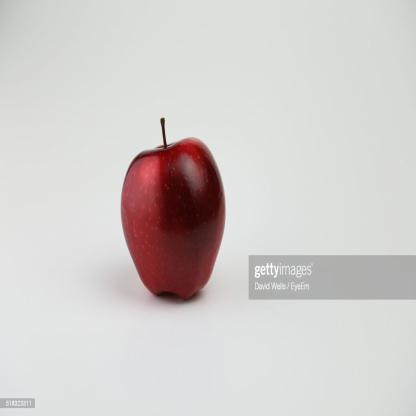Apple: (115, 110, 248, 319)
